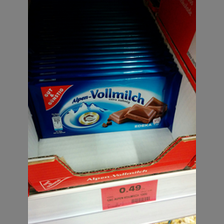chocolate: (28, 80, 179, 142)
